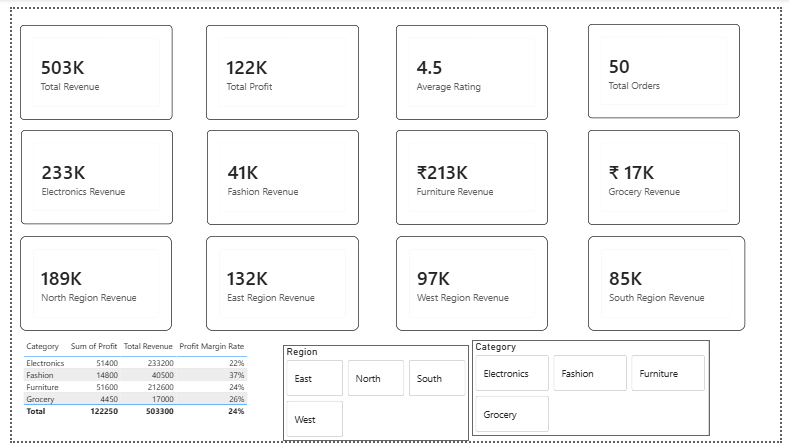

What the dashboard file says about the page in this screenshot:
{"tool":"powerbi","page":{"name":"KPI ROW","canvas":[1280,720],"ordinal":4},"visuals":[{"type":"cardVisual","fields":{"Data":["Measures Table.Total Revenue"]},"box":[14,26,254,158],"z":0},{"type":"cardVisual","fields":{"Data":["Measures Table.Total Profit"]},"box":[323.3,26.7,255,158.3],"z":1000},{"type":"cardVisual","fields":{"Data":["Measures Table.Average Rating"]},"box":[640,26.7,253.3,158.3],"z":2000},{"type":"cardVisual","fields":{"Data":["Measures Table.Total Orders"]},"box":[960,25,253.3,156.7],"z":3000},{"type":"cardVisual","fields":{"Data":["Measures Table.Electronics Revenue"]},"box":[15,201.7,253.3,156.7],"z":4000},{"type":"cardVisual","fields":{"Data":["Measures Table.Fashion Revenue"]},"box":[325,201.7,253.3,158.3],"z":5000},{"type":"cardVisual","fields":{"Data":["Measures Table.Furniture Revenue"]},"box":[640,201.7,253.3,158.3],"z":6000},{"type":"cardVisual","fields":{"Data":["Measures Table.Grocery Revenue"]},"box":[960,201.7,253.3,158.3],"z":7000},{"type":"cardVisual","fields":{"Data":["Measures Table.North Region Revenue"]},"box":[13.3,378.3,253.3,158.3],"z":8000},{"type":"cardVisual","fields":{"Data":["Measures Table.South Region Revenue"]},"box":[960,378.3,261.7,158.3],"z":9000},{"type":"cardVisual","fields":{"Data":["Measures Table.East Region Revenue"]},"box":[323.3,378.3,255,158.3],"z":10000},{"type":"cardVisual","fields":{"Data":["Measures Table.West Region Revenue"]},"box":[640,378.3,253.3,158.3],"z":11000},{"type":"tableEx","fields":{"Values":["Retail Sales Data.Category","Sum(Retail Sales Data.Profit)","Measures Table.Total Revenue","Measures Table.Profit Margin Rate"]},"box":[12.9,547.1,411.4,144.3],"z":12000},{"type":"advancedSlicerVisual","fields":{"Values":["Retail Sales Data.Region"]},"box":[450.9,560,310,160],"z":12001},{"type":"advancedSlicerVisual","fields":{"Values":["Retail Sales Data.Category"]},"box":[766,552,396,160],"z":12002}]}

Visuals, with their boxes in screenshot pixels (x1, y1, x2, y2), scaled from the page's 1280x720 canvas onto the 789x448 screenshot:
cardVisual - Measures Table.Total Revenue: <bbox>9, 16, 165, 114</bbox>
cardVisual - Measures Table.Total Profit: <bbox>199, 17, 356, 115</bbox>
cardVisual - Measures Table.Average Rating: <bbox>394, 17, 551, 115</bbox>
cardVisual - Measures Table.Total Orders: <bbox>592, 16, 748, 113</bbox>
cardVisual - Measures Table.Electronics Revenue: <bbox>9, 126, 165, 223</bbox>
cardVisual - Measures Table.Fashion Revenue: <bbox>200, 126, 356, 224</bbox>
cardVisual - Measures Table.Furniture Revenue: <bbox>394, 126, 551, 224</bbox>
cardVisual - Measures Table.Grocery Revenue: <bbox>592, 126, 748, 224</bbox>
cardVisual - Measures Table.North Region Revenue: <bbox>8, 235, 164, 334</bbox>
cardVisual - Measures Table.South Region Revenue: <bbox>592, 235, 753, 334</bbox>
cardVisual - Measures Table.East Region Revenue: <bbox>199, 235, 356, 334</bbox>
cardVisual - Measures Table.West Region Revenue: <bbox>394, 235, 551, 334</bbox>
tableEx - Retail Sales Data.Category x Sum(Retail Sales Data.Profit): <bbox>8, 340, 262, 430</bbox>
advancedSlicerVisual - Retail Sales Data.Region: <bbox>278, 348, 469, 447</bbox>
advancedSlicerVisual - Retail Sales Data.Category: <bbox>472, 343, 716, 443</bbox>
